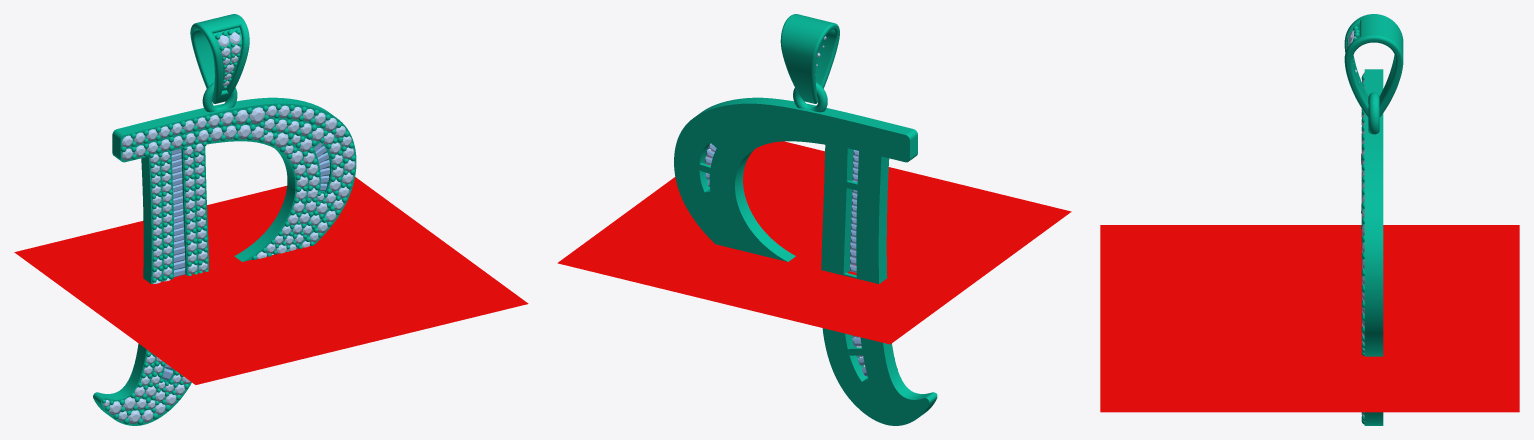
The picture shows the model from 3 angles, left to right: view 1: azimuth 30°, elevation 25°; view 2: azimuth 150°, elevation 25°; view 3: azimuth 270°, elevation 25°; orthographic projection. The views are drawn at different scales.
Visible parts, largest first — view 1: PN 0020 (1)(front).3dm; view 2: PN 0020 (1)(front).3dm; view 3: PN 0020 (1)(front).3dm.
Part boxes in pixels (x1,y1,x2,y2): PN 0020 (1)(front).3dm: (14, 14, 528, 425); PN 0020 (1)(front).3dm: (557, 14, 1071, 425); PN 0020 (1)(front).3dm: (1100, 14, 1519, 425).
Size of what is drawn, in the model's own units: 2.98 by 3.26 by 2.81.
